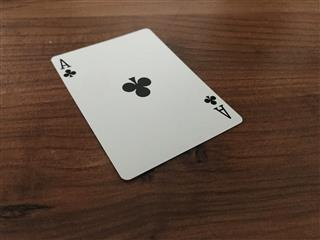AceOfClubs: (49, 27, 243, 180)
